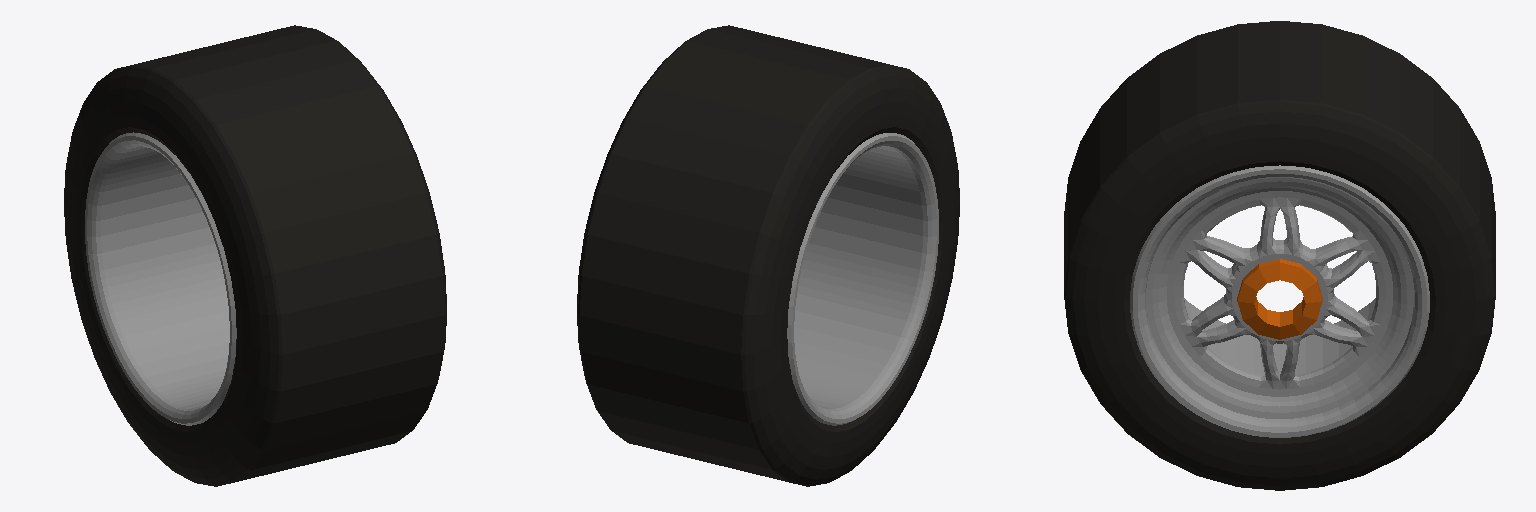
File: FS_tire10_eforce.obj
3 views of the same model, side by side, from view 1: azimuth 30°, elevation 25°; view 2: azimuth 150°, elevation 25°; view 3: azimuth 270°, elevation 25° (orthographic).
Parts seen in each view (by area): view 1: Cylinder.038_Cylinder.032, Cylinder.039_Cylinder.048; view 2: Cylinder.038_Cylinder.032, Cylinder.039_Cylinder.048; view 3: Cylinder.038_Cylinder.032, Cylinder.039_Cylinder.048, Cylinder.040_Cylinder.036.
Boxes of the visible parts, <box> form: Cylinder.038_Cylinder.032: <box>64,25,446,486</box>; Cylinder.039_Cylinder.048: <box>85,132,236,425</box>; Cylinder.038_Cylinder.032: <box>577,25,959,486</box>; Cylinder.039_Cylinder.048: <box>787,133,938,425</box>; Cylinder.038_Cylinder.032: <box>1064,21,1495,490</box>; Cylinder.039_Cylinder.048: <box>1130,165,1429,437</box>; Cylinder.040_Cylinder.036: <box>1237,259,1322,339</box>.
Size of the model in its own units: 0.2061 by 0.3948 by 0.3948.